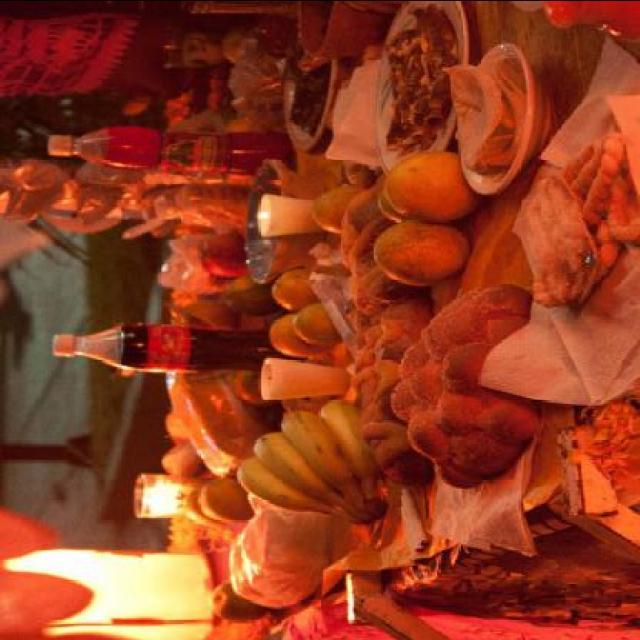Orange: (372, 218, 474, 286), (382, 152, 484, 220), (266, 312, 328, 356), (210, 582, 272, 624), (198, 476, 254, 522), (293, 302, 344, 344), (274, 270, 318, 308), (186, 488, 223, 526)
